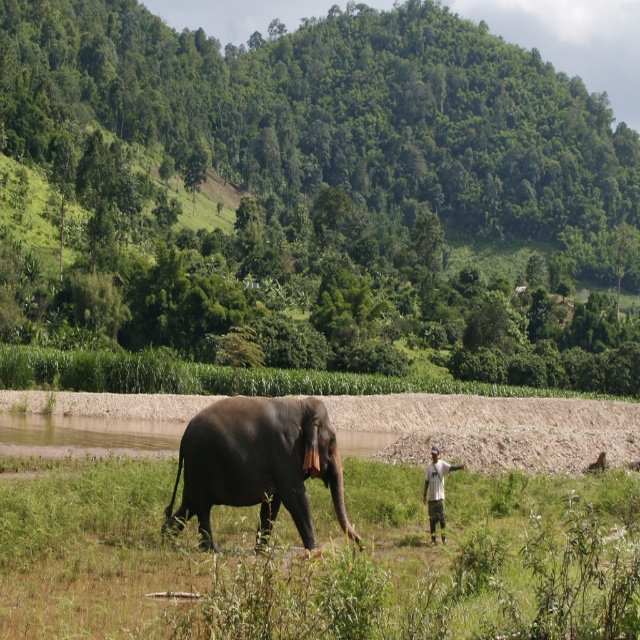Elephant: (161, 390, 365, 549)
